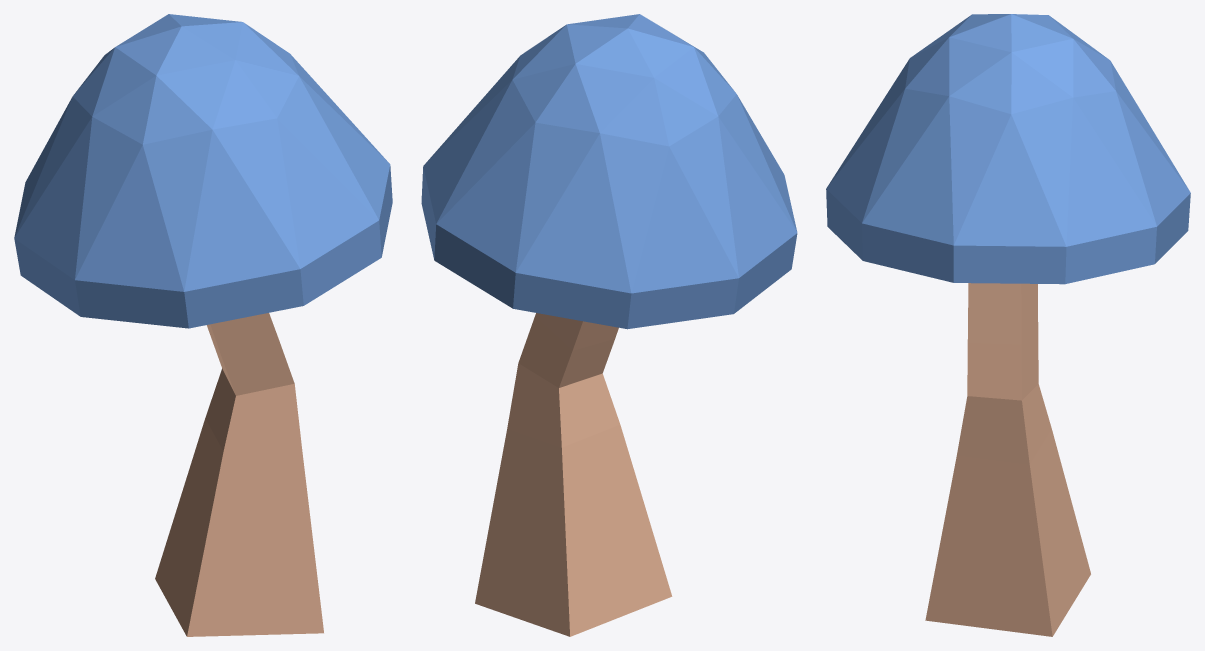
Rendered from mushroom 2.fbx.
3 views of the same model, side by side, from view 1: azimuth 30°, elevation 25°; view 2: azimuth 150°, elevation 25°; view 3: azimuth 270°, elevation 25° (orthographic). The views are drawn at different scales.
Parts seen in each view (by area): view 1: Mushroom 2; view 2: Mushroom 2; view 3: Mushroom 2.
Boxes of the visible parts, x1,y1,x2,y2 form: Mushroom 2: (14, 14, 392, 636); Mushroom 2: (421, 14, 797, 636); Mushroom 2: (826, 14, 1190, 636).
Bounding box in the file's own units: 47.68 × 84.92 × 49.94.
